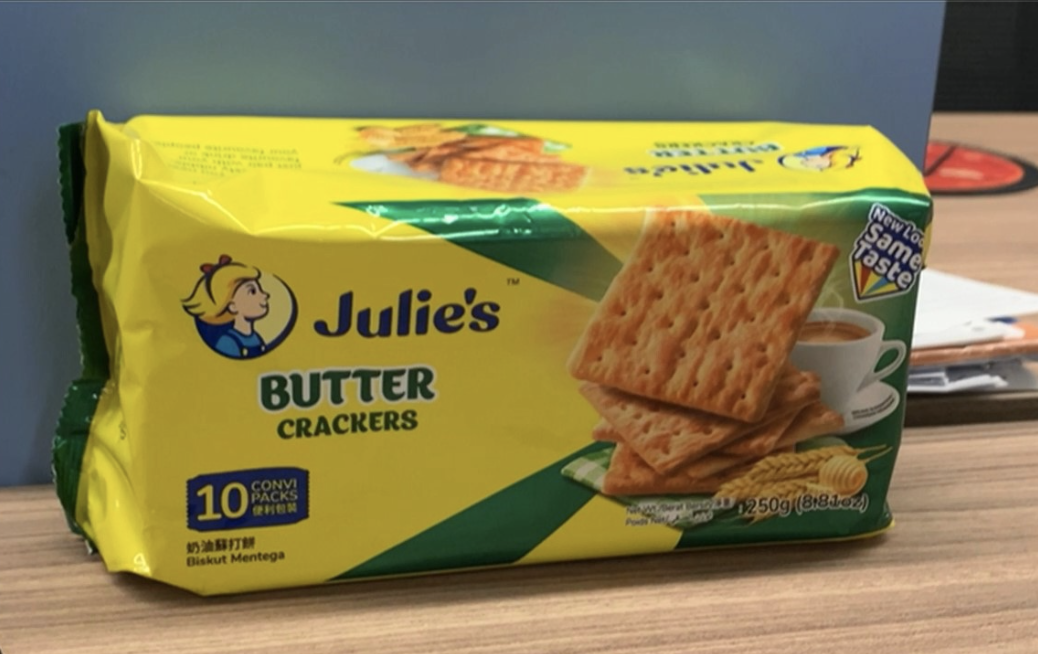crackers_150g: (162, 209, 886, 545)
